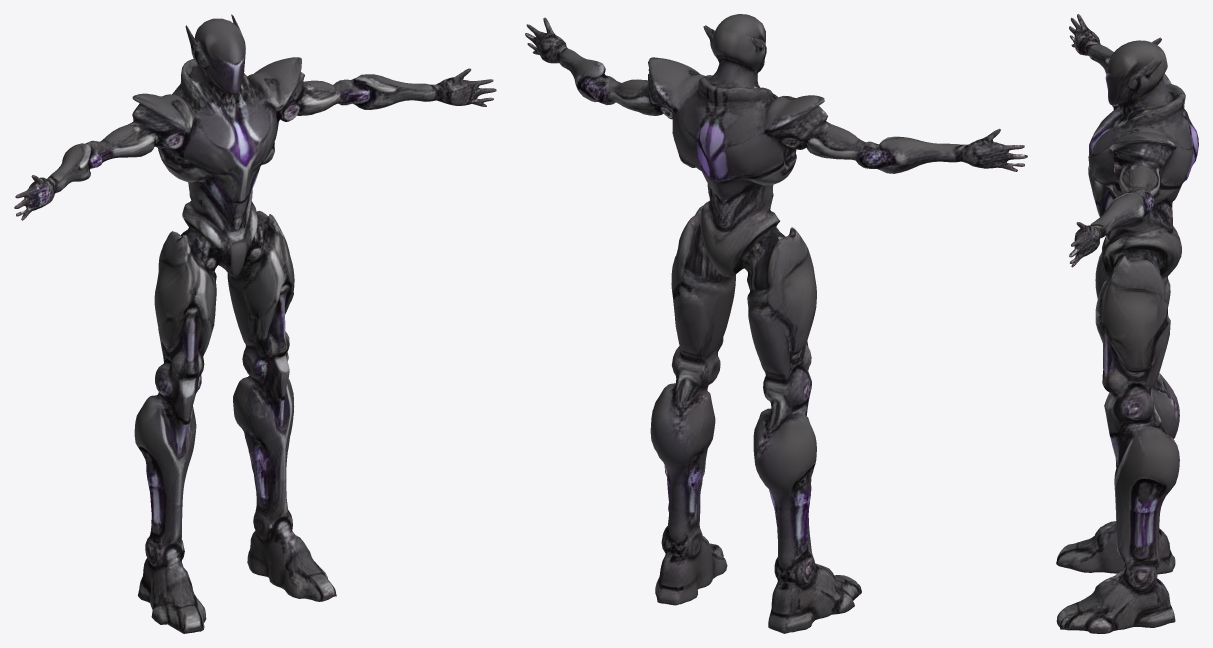
File: base_basic_pbr.fbx
3 views of the same model, side by side, from view 1: azimuth 30°, elevation 25°; view 2: azimuth 150°, elevation 25°; view 3: azimuth 270°, elevation 25° (orthographic). The views are drawn at different scales.
Parts seen in each view (by area): view 1: model; view 2: model; view 3: model.
Part boxes in pixels (left/top/right/bottom): model: left=14, top=14, right=496, bottom=633; model: left=525, top=14, right=1027, bottom=633; model: left=1056, top=14, right=1198, bottom=633.
Size of the model in its own units: 170 by 190 by 44.58.
Materials: 1 (1 with a texture image).
